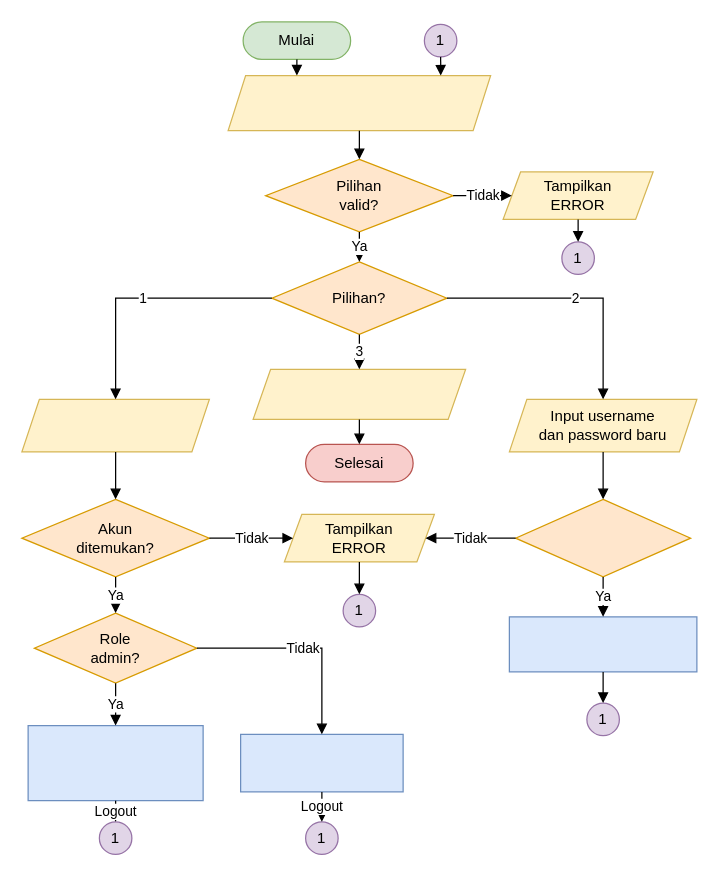
Some shapes in this 719 by 876 pixel diagram are drawn without their labels. The centre of each missing label's shape, as x and y in pixels:
Data valid?: the point at 602,537
Input username dan password: the point at 115,425
Menu Admin: Lihat, Cari, Tambah, Ubah, Hapus data: the point at 115,762
Menu Pengguna: Lihat dan Cari data: the point at 321,762
Simpan akun baru (role: user): the point at 602,644
Tampilkan menu awal dan input pilihan: the point at 359,102
Tampilkan ucapan terima kasih: the point at 359,393
